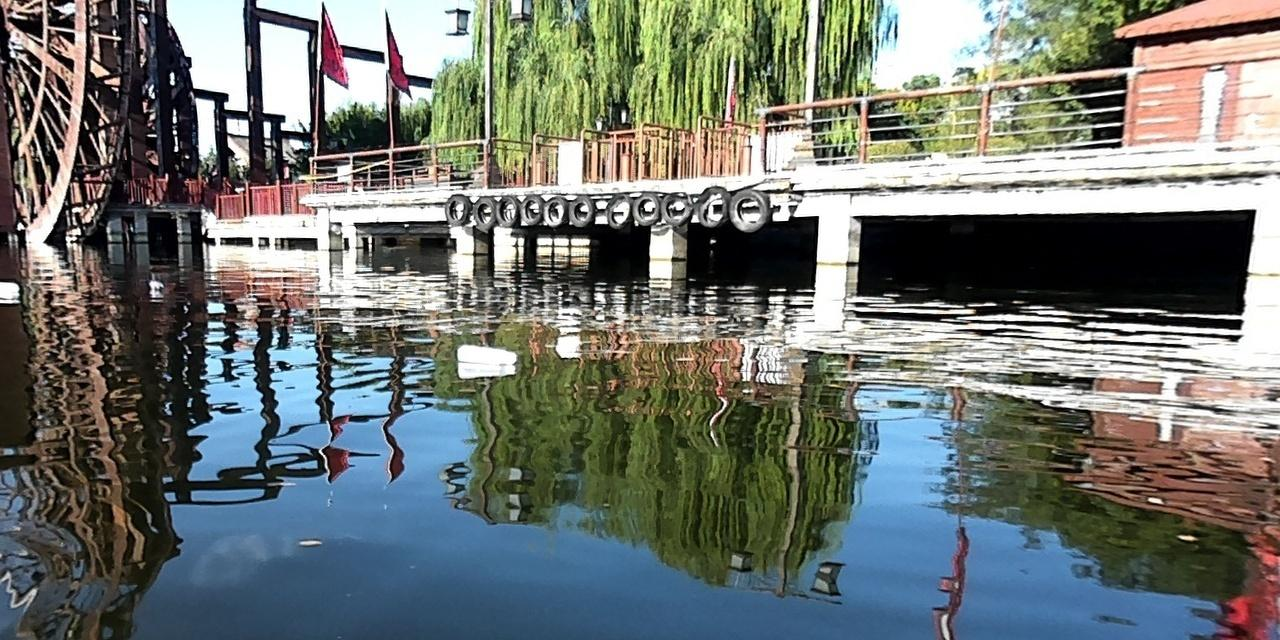bottle: (455, 341, 517, 366)
